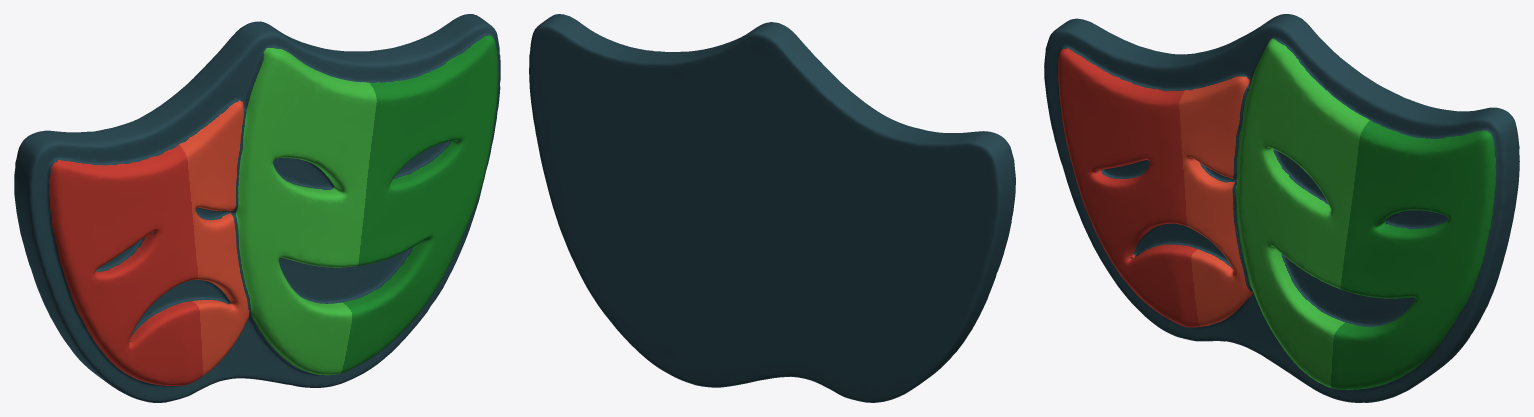
File: emblem_playwright.glb
3 views of the same model, side by side, from view 1: azimuth 30°, elevation 25°; view 2: azimuth 150°, elevation 25°; view 3: azimuth 330°, elevation 25° (orthographic). The views are drawn at different scales.
Visible parts, largest first — view 1: playwright_20k; view 2: playwright_20k; view 3: playwright_20k.
Boxes of the visible parts, x1=… form: playwright_20k: x1=14, y1=14, x2=500, y2=402; playwright_20k: x1=529, y1=14, x2=1015, y2=402; playwright_20k: x1=1044, y1=14, x2=1519, y2=402.
Bounding box in the file's own units: 0.8001 × 0.5972 × 0.0875.
Materials: 1 (1 with a texture image).
